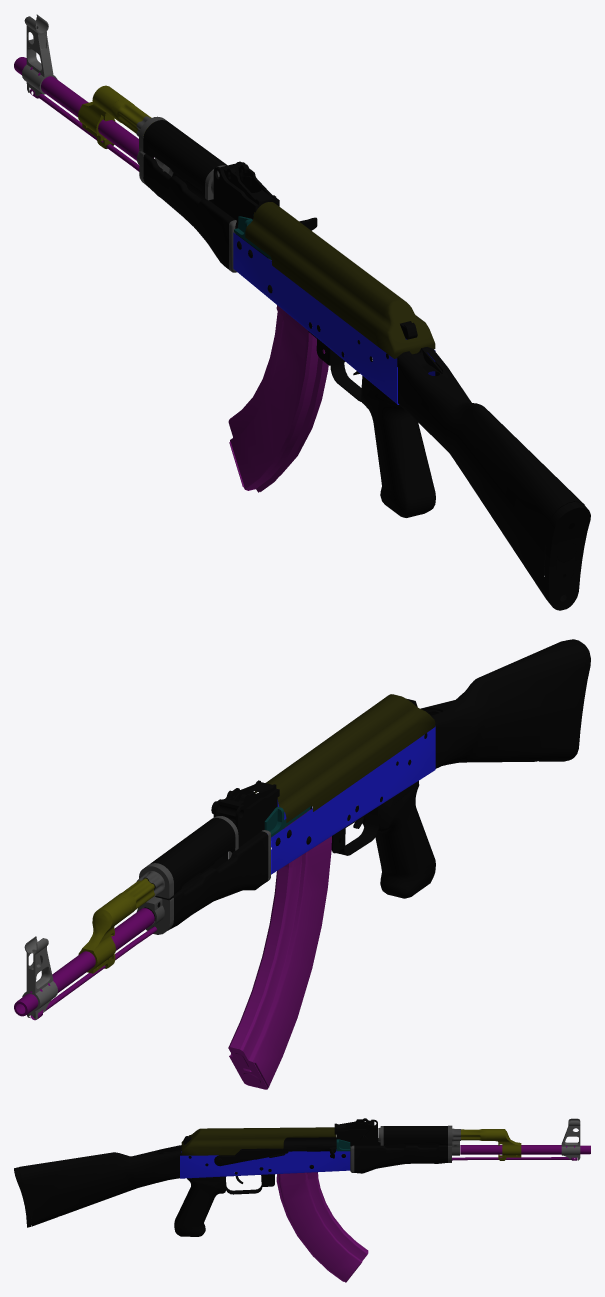
The picture shows the model from 3 angles, top to bottom: view 1: azimuth 30°, elevation 25°; view 2: azimuth 150°, elevation 25°; view 3: azimuth 270°, elevation 25°; orthographic projection. The views are drawn at different scales.
Parts seen in each view (by area): view 1: Ak01_Stock_LOD0, Ak03_Receiver_cover_LOD0, Ak10_Magazine_LOD0, Ak02_Receiver_LOD0, Ak01_Pistol_frip_LOD0, Ak01_Lower_handguard_LOD0, Ak12_Buttplate_LOD0, Ak01_Upper_handguard_LOD0, Ak04_Rear_sight_base_LOD0, Ak09_Barrel_LOD0, Ak08_Front_sight_base_LOD0, Ak07_Gas_port_LOD0 (+1 smaller); view 2: Ak01_Stock_LOD0, Ak10_Magazine_LOD0, Ak03_Receiver_cover_LOD0, Ak02_Receiver_LOD0, Ak01_Pistol_frip_LOD0, Ak01_Lower_handguard_LOD0, Ak01_Upper_handguard_LOD0, Ak04_Rear_sight_base_LOD0, Ak09_Barrel_LOD0, Ak07_Gas_port_LOD0, Ak08_Front_sight_base_LOD0, Ak11_Receiver_LOD0 (+6 smaller); view 3: Ak01_Stock_LOD0, Ak10_Magazine_LOD0, Ak02_Receiver_LOD0, Ak03_Receiver_cover_LOD0, Ak01_Lower_handguard_LOD0, Ak01_Pistol_frip_LOD0, Ak01_Upper_handguard_LOD0, Ak09_Barrel_LOD0, Ak04_Rear_sight_base_LOD0, Ak13_Bolt_carrier_LOD0, Ak11_Selector_plate_LOD0, Ak07_Gas_port_LOD0 (+5 smaller).
Boxes of the visible parts, <box> form: Ak01_Stock_LOD0: <box>398,348,584,601</box>; Ak03_Receiver_cover_LOD0: <box>245,202,435,358</box>; Ak10_Magazine_LOD0: <box>228,305,328,492</box>; Ak02_Receiver_LOD0: <box>233,232,435,404</box>; Ak01_Pistol_frip_LOD0: <box>361,383,435,517</box>; Ak01_Lower_handguard_LOD0: <box>143,154,267,269</box>; Ak12_Buttplate_LOD0: <box>544,502,590,610</box>; Ak01_Upper_handguard_LOD0: <box>143,120,227,196</box>; Ak04_Rear_sight_base_LOD0: <box>213,161,279,222</box>; Ak09_Barrel_LOD0: <box>14,57,153,160</box>; Ak08_Front_sight_base_LOD0: <box>22,14,57,95</box>; Ak07_Gas_port_LOD0: <box>78,85,125,148</box>; Ak01_Stock_LOD0: <box>408,640,585,768</box>; Ak10_Magazine_LOD0: <box>228,809,331,1089</box>; Ak03_Receiver_cover_LOD0: <box>255,694,435,822</box>; Ak02_Receiver_LOD0: <box>267,726,435,874</box>; Ak01_Pistol_frip_LOD0: <box>362,782,435,898</box>; Ak01_Lower_handguard_LOD0: <box>144,831,268,930</box>; Ak01_Upper_handguard_LOD0: <box>145,818,235,894</box>; Ak04_Rear_sight_base_LOD0: <box>213,780,279,852</box>; Ak09_Barrel_LOD0: <box>14,908,154,1016</box>; Ak07_Gas_port_LOD0: <box>78,896,130,973</box>; Ak08_Front_sight_base_LOD0: <box>22,936,57,1019</box>; Ak11_Receiver_LOD0: <box>331,807,378,855</box>; Ak01_Stock_LOD0: <box>19,1145,179,1226</box>; Ak10_Magazine_LOD0: <box>276,1172,368,1282</box>; Ak02_Receiver_LOD0: <box>180,1149,350,1178</box>; Ak03_Receiver_cover_LOD0: <box>181,1127,336,1155</box>; Ak01_Lower_handguard_LOD0: <box>354,1138,447,1173</box>; Ak01_Pistol_frip_LOD0: <box>174,1178,226,1236</box>; Ak01_Upper_handguard_LOD0: <box>383,1126,447,1145</box>; Ak09_Barrel_LOD0: <box>460,1145,590,1154</box>; Ak04_Rear_sight_base_LOD0: <box>334,1118,377,1146</box>; Ak13_Bolt_carrier_LOD0: <box>283,1137,336,1158</box>; Ak11_Selector_plate_LOD0: <box>214,1148,288,1166</box>; Ak07_Gas_port_LOD0: <box>486,1129,521,1160</box>.
Size of the model in its own units: 6.42 by 27.16 by 87.72.
